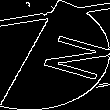N_W: (11, 27, 99, 83)
